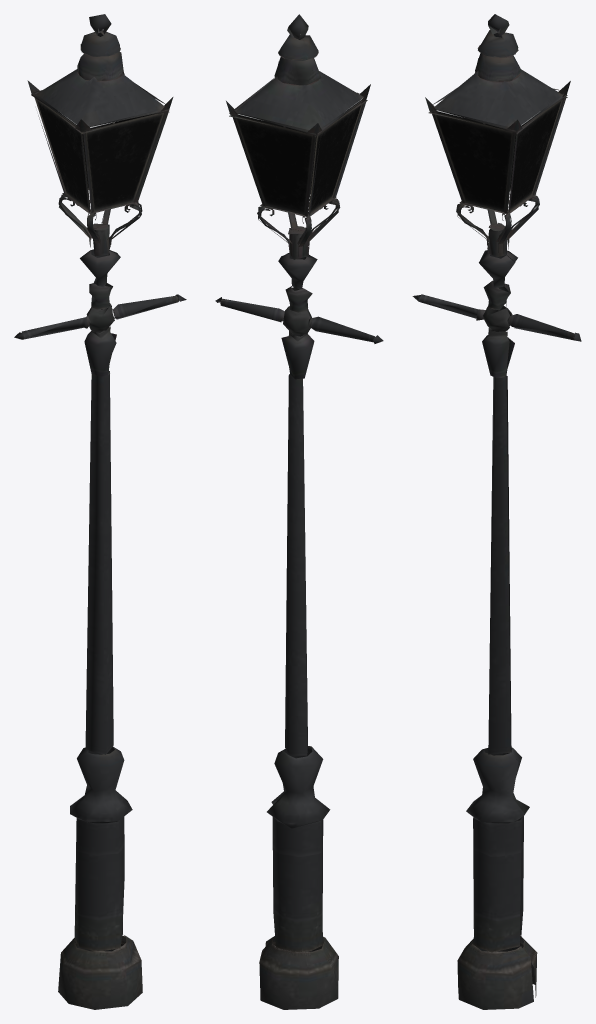
File: ph_street_lamp_01.glb
3 renders of one model, left to right at view 1: azimuth 30°, elevation 25°; view 2: azimuth 150°, elevation 25°; view 3: azimuth 330°, elevation 25°, orthographic.
Visible parts, largest first — view 1: street_lamp_01; view 2: street_lamp_01; view 3: street_lamp_01.
Boxes of the visible parts, left/top/right/bottom form: street_lamp_01: left=14, top=14, right=186, bottom=1009; street_lamp_01: left=215, top=14, right=383, bottom=1009; street_lamp_01: left=412, top=14, right=581, bottom=1009.
Bounding box in the file's own units: 0.707 × 3.87 × 0.3832.
Materials: 3 (3 with a texture image).
